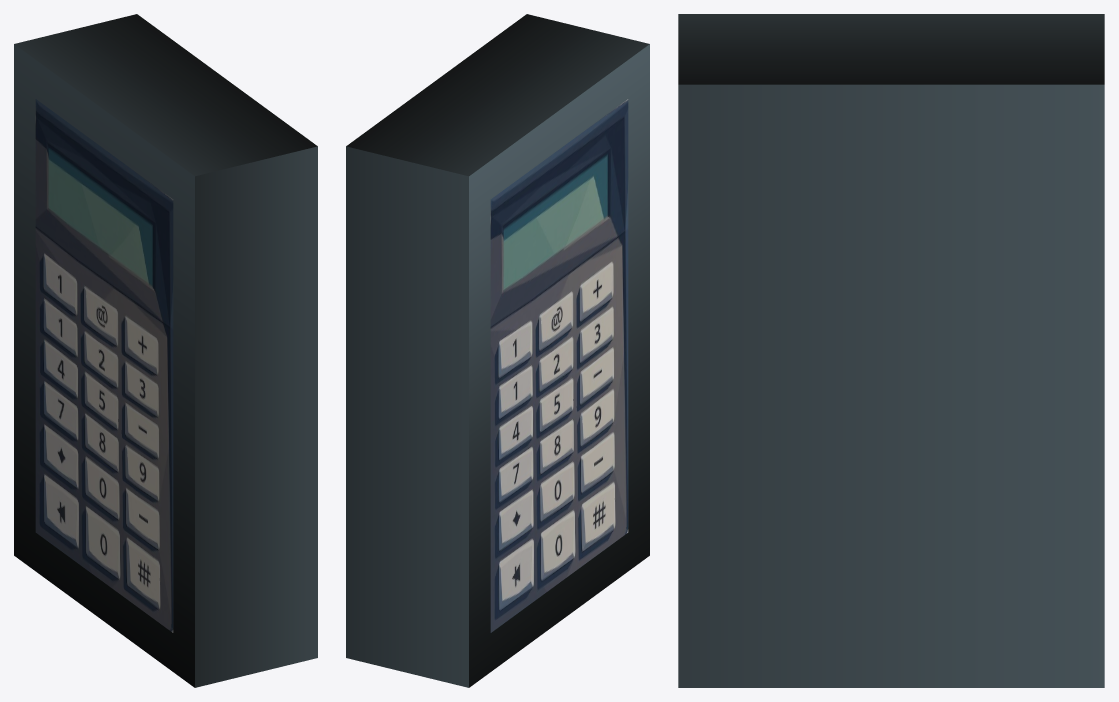
The model's file is Digicode.glb.
3 renders of one model, left to right at view 1: azimuth 30°, elevation 25°; view 2: azimuth 150°, elevation 25°; view 3: azimuth 270°, elevation 25°, orthographic. The views are drawn at different scales.
Visible parts, largest first — view 1: Cube; view 2: Cube; view 3: Cube.
Boxes of the visible parts, x1,y1,x2,y2 form: Cube: [14, 14, 317, 687]; Cube: [346, 14, 649, 687]; Cube: [678, 14, 1104, 687].
Size of the model in its own units: 0.1007 by 0.4 by 0.2563.
2 materials, 2 textured.
